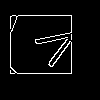V: (26, 21, 82, 73)
